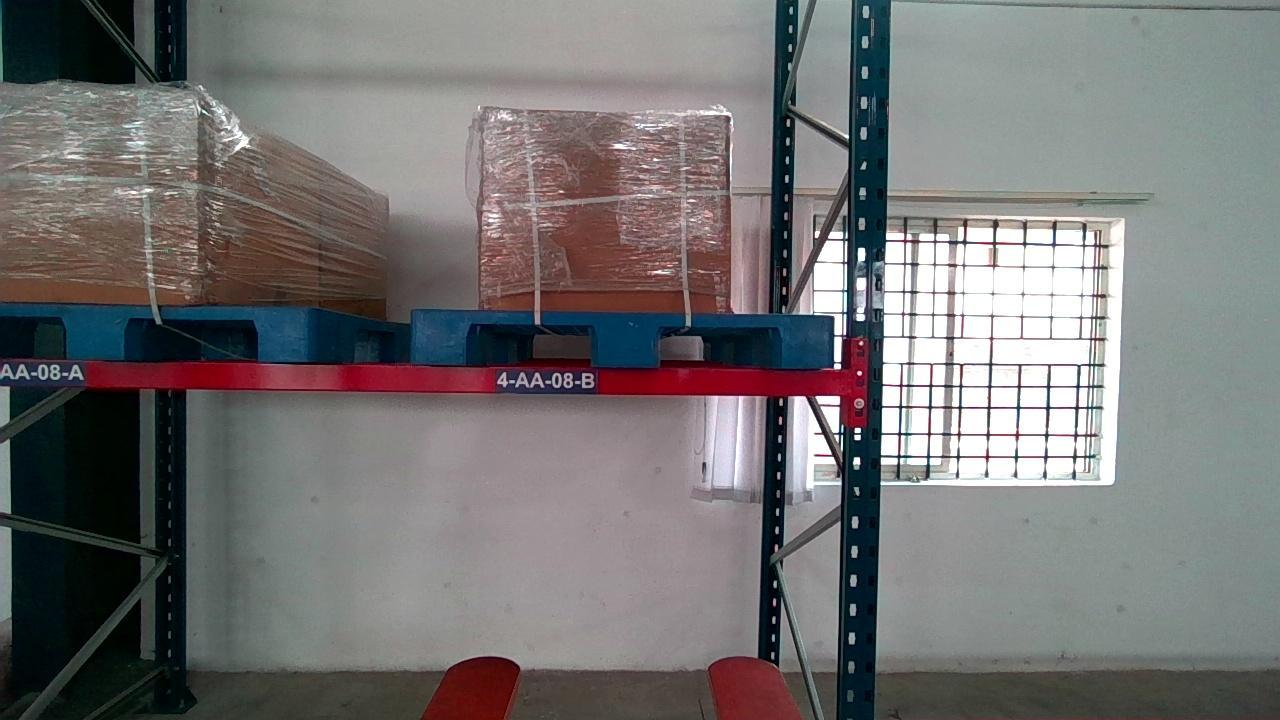h_rack: (16, 351, 860, 392)
small_pallet: (413, 309, 833, 369), (1, 303, 311, 360)
